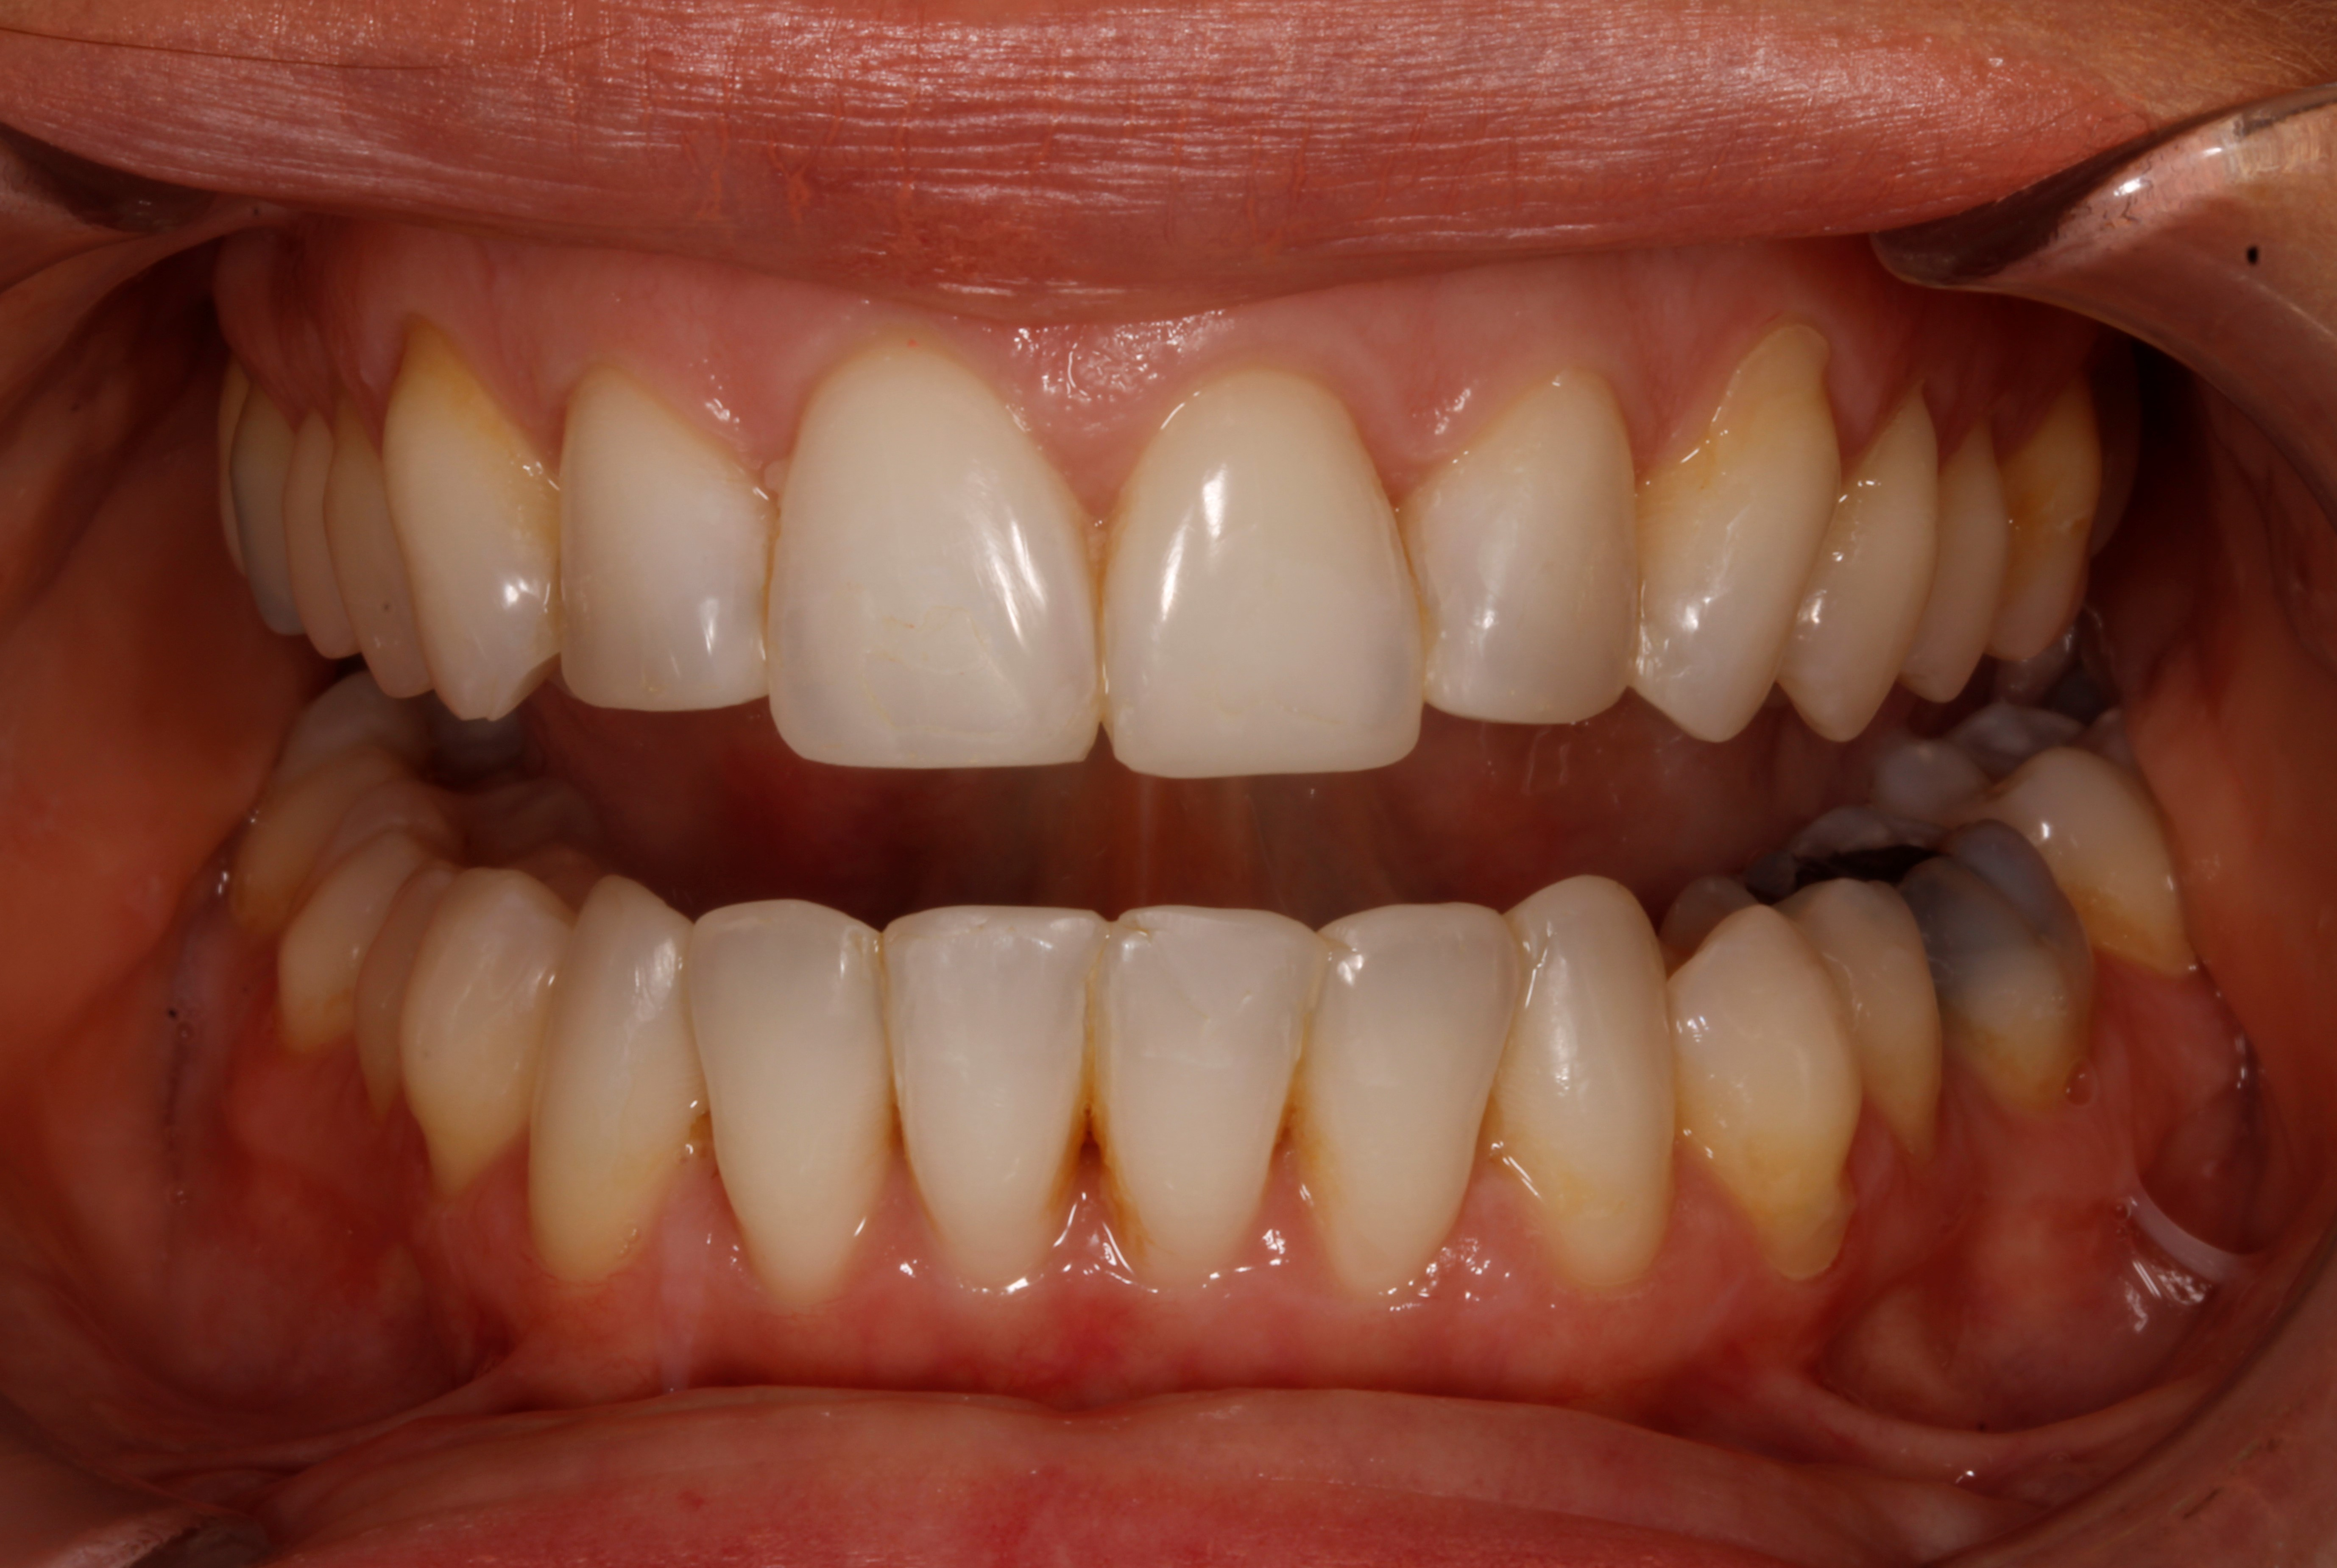LL1BC_healthy: (1669, 905, 1851, 1270)
LL1M_sdecay: (1894, 824, 2089, 1103)
LL2BC_healthy: (1845, 955, 1931, 1143)
LL2M_mdecay: (2080, 760, 2178, 980)
LLCI_healthy: (1100, 908, 1312, 1278)
LLC_healthy: (1518, 880, 1672, 1281)
LLLI_healthy: (1310, 908, 1524, 1286)
LR1BC_healthy: (411, 866, 548, 1197)
LR1M_healthy: (278, 826, 369, 1043)
LR2BC_healthy: (360, 875, 409, 1110)
LR3M_sdecay: (294, 705, 539, 779)
LRCI_healthy: (892, 908, 1090, 1264)
LRC_healthy: (528, 873, 687, 1274)
LRLI_healthy: (687, 905, 887, 1295)
UL1BC_healthy: (1835, 382, 1928, 746)
UL1M_mdecay: (2006, 397, 2101, 653)
UL2BC_healthy: (1936, 431, 1998, 704)
ULCI_healthy: (1100, 373, 1417, 772)
ULC_healthy: (1643, 340, 1830, 742)
ULLI_healthy: (1419, 382, 1636, 719)
UR1BC_healthy: (331, 420, 404, 704)
UR1M_mdecay: (233, 397, 290, 639)
UR2BC_healthy: (292, 427, 334, 653)
URCI_healthy: (768, 350, 1097, 767)
URC_mdecay: (388, 341, 558, 718)
URLI_healthy: (558, 380, 775, 709)
